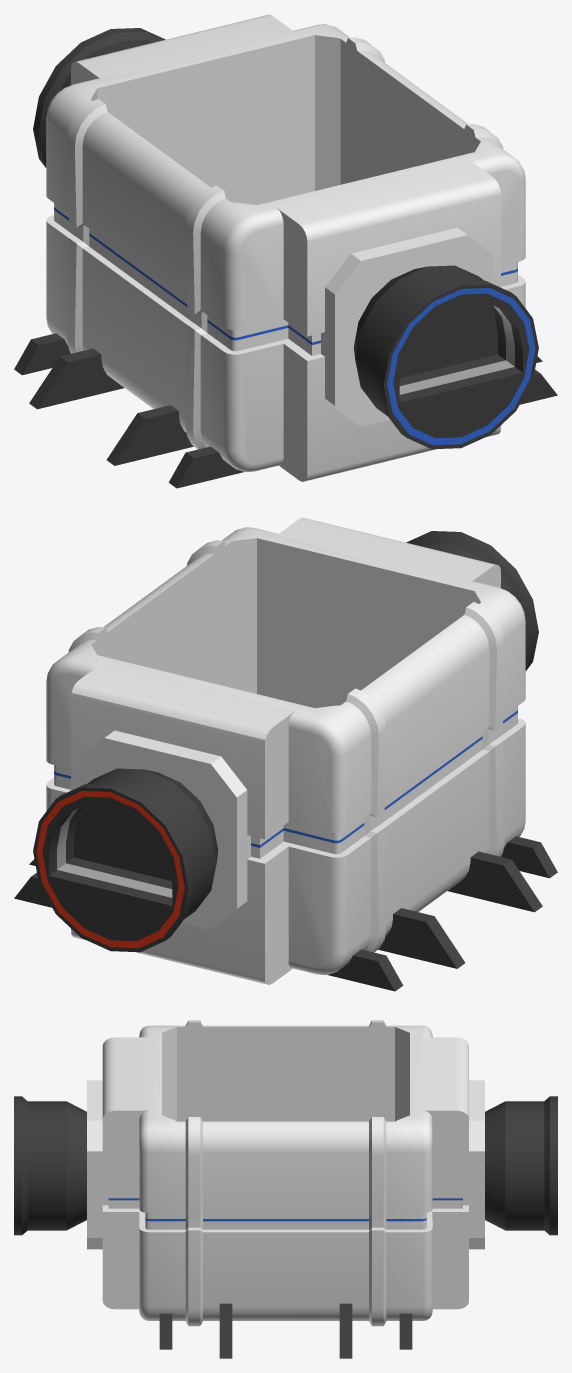
The model's file is m_Hopper.fbx.
The picture shows the model from 3 angles, top to bottom: view 1: azimuth 30°, elevation 25°; view 2: azimuth 150°, elevation 25°; view 3: azimuth 270°, elevation 25°; orthographic projection. The views are drawn at different scales.
Parts seen in each view (by area): view 1: Hopper; view 2: Hopper; view 3: Hopper.
Part boxes in pixels (x1,y1,x2,y2): Hopper: (14,14,557,488); Hopper: (14,517,557,991); Hopper: (14,1020,557,1358).
Bounding box in the file's own units: 70.51 × 42.17 × 100.
